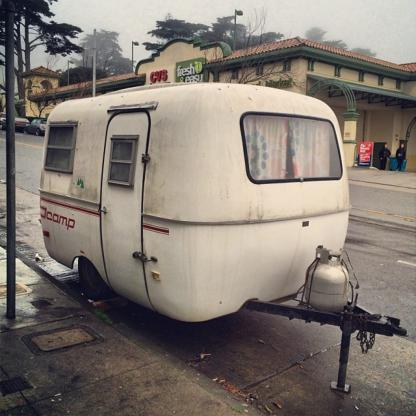Car: (0, 113, 30, 129), (22, 119, 47, 137)
